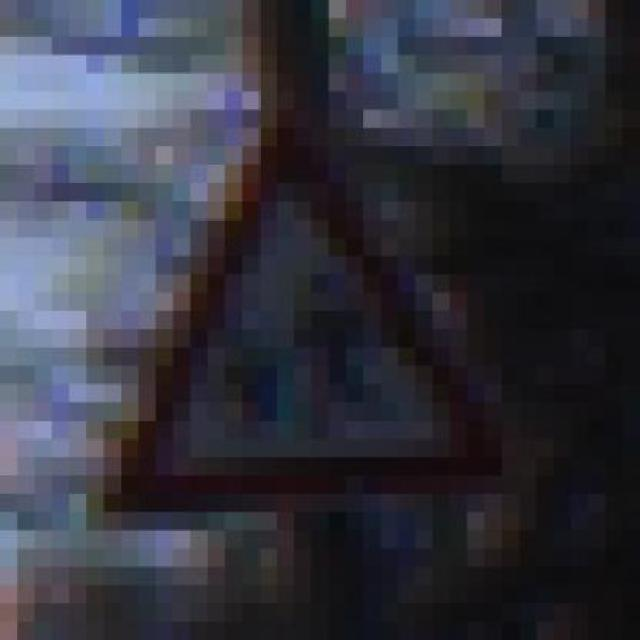Beware of children: (86, 91, 502, 512)
